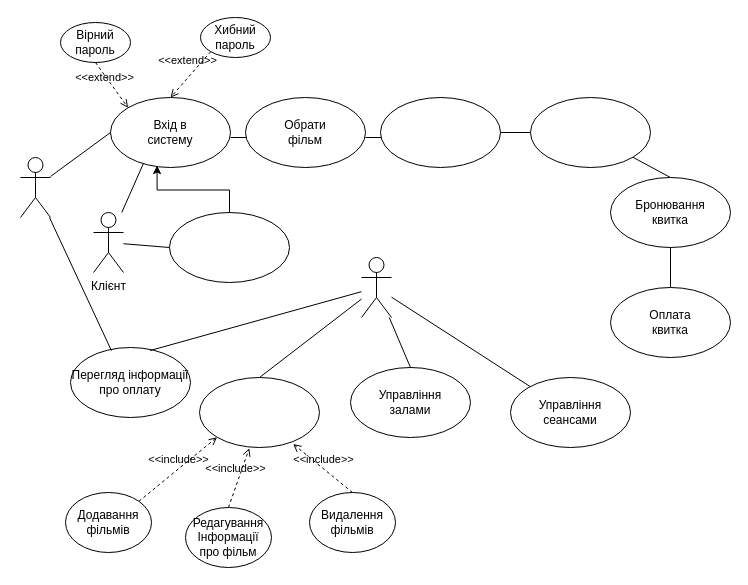
This 748x585 diagram has some shape labels left out. The shapes that lost their labels are listed below. From the top down, each one's centre as x and y in pixels, then its label:
At [440,132]: "Обрати сеанс".
At [590,132]: "Обрати місце".
At [35,187]: "Касир".
At [229,247]: "Реєстрація".
At [376,287]: "Адміністратор".
At [259,412]: "Управління фільмами".
